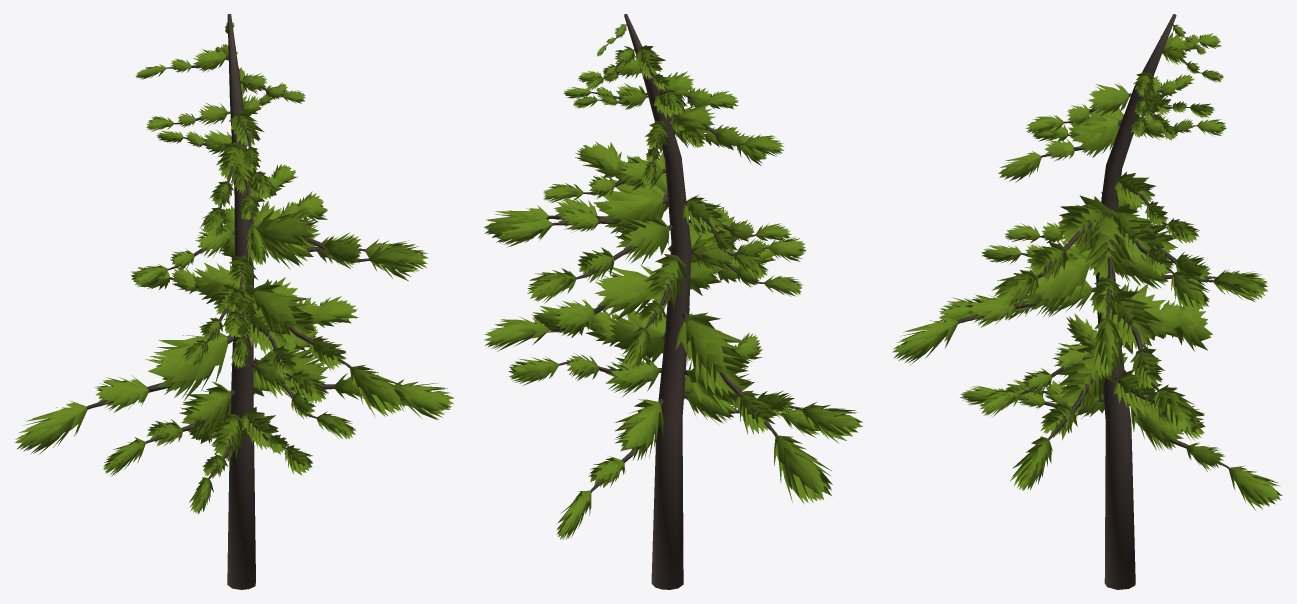
3 renders of one model, left to right at view 1: azimuth 30°, elevation 25°; view 2: azimuth 150°, elevation 25°; view 3: azimuth 270°, elevation 25°, orthographic. The views are drawn at different scales.
Parts seen in each view (by area): view 1: A2_LOD00; view 2: A2_LOD00; view 3: A2_LOD00.
Part boxes in pixels (x1,y1,x2,y2): A2_LOD00: (15,14,453,589); A2_LOD00: (484,14,862,589); A2_LOD00: (892,14,1282,589).
Size of what is drawn, in the model's own units: 22.53 by 32.27 by 19.84.
